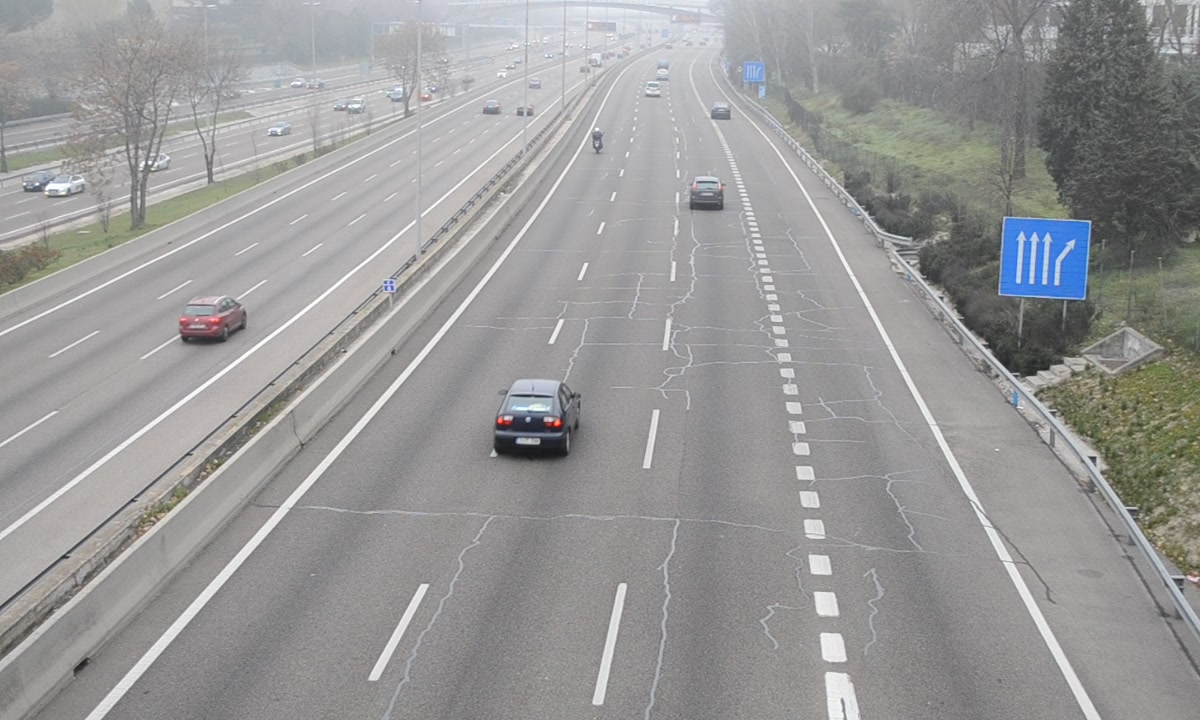car: (491, 375, 581, 459), (688, 176, 725, 214), (710, 102, 730, 120)
motorcycle: (590, 128, 603, 159)
